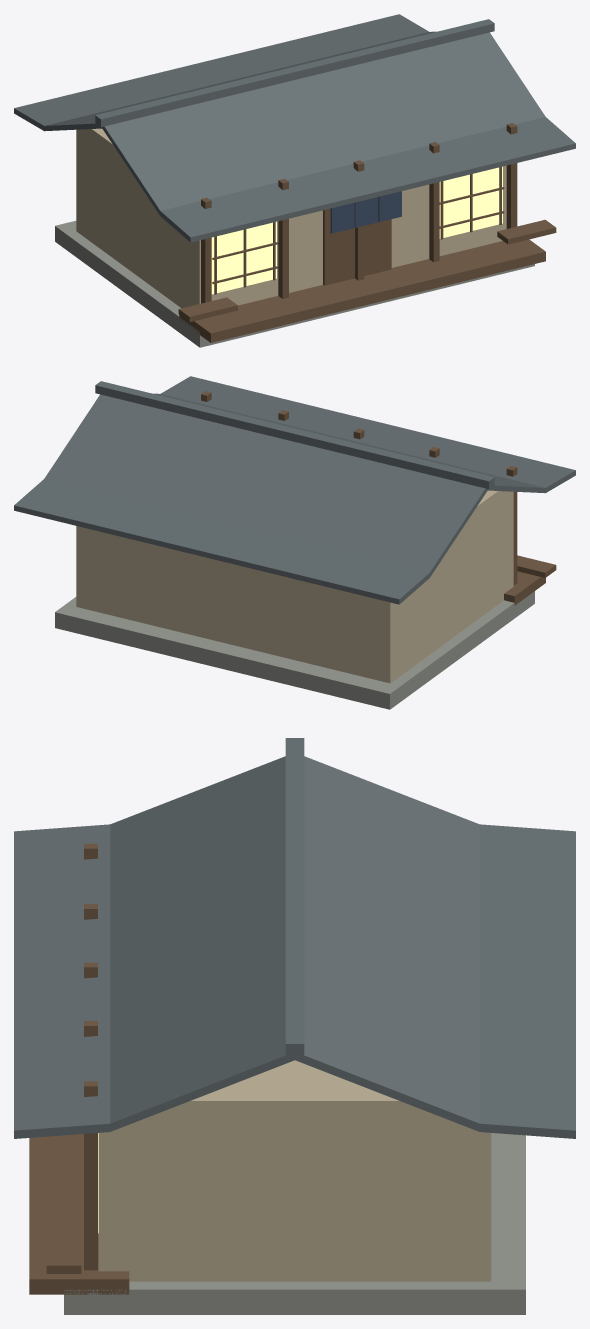
Rendered from tea-house-lod.glb.
3 views of the same model, one above another, from view 1: azimuth 30°, elevation 25°; view 2: azimuth 150°, elevation 25°; view 3: azimuth 270°, elevation 25° (orthographic). The views are drawn at different scales.
Visible parts, largest first — view 1: tea-house; view 2: tea-house; view 3: tea-house.
Part boxes in pixels (x1=…): tea-house: x1=14, y1=14, x2=575, y2=347; tea-house: x1=14, y1=376, x2=575, y2=709; tea-house: x1=14, y1=738, x2=575, y2=1314.
Size of the model in its own units: 9.4 by 4.21 by 7.3.
